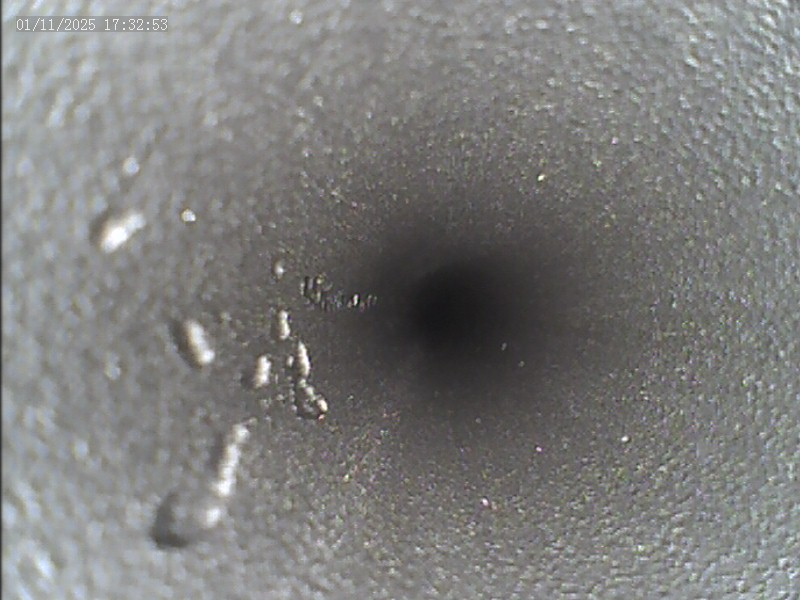defective_area: (102, 207, 372, 530)
